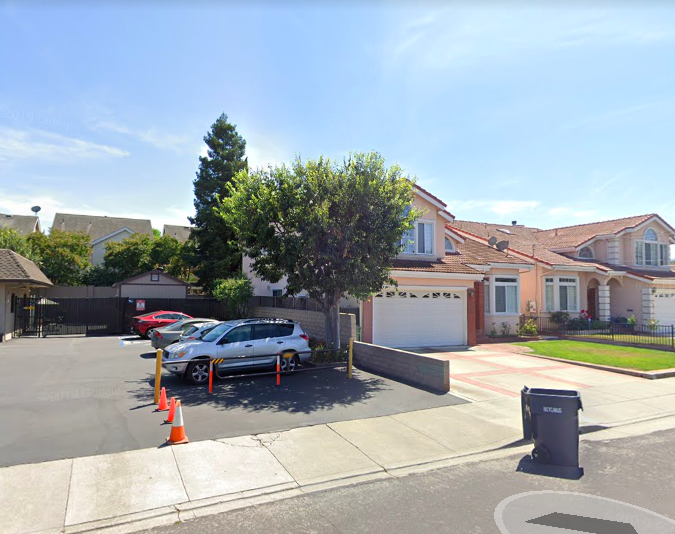tree: (210, 147, 431, 360)
